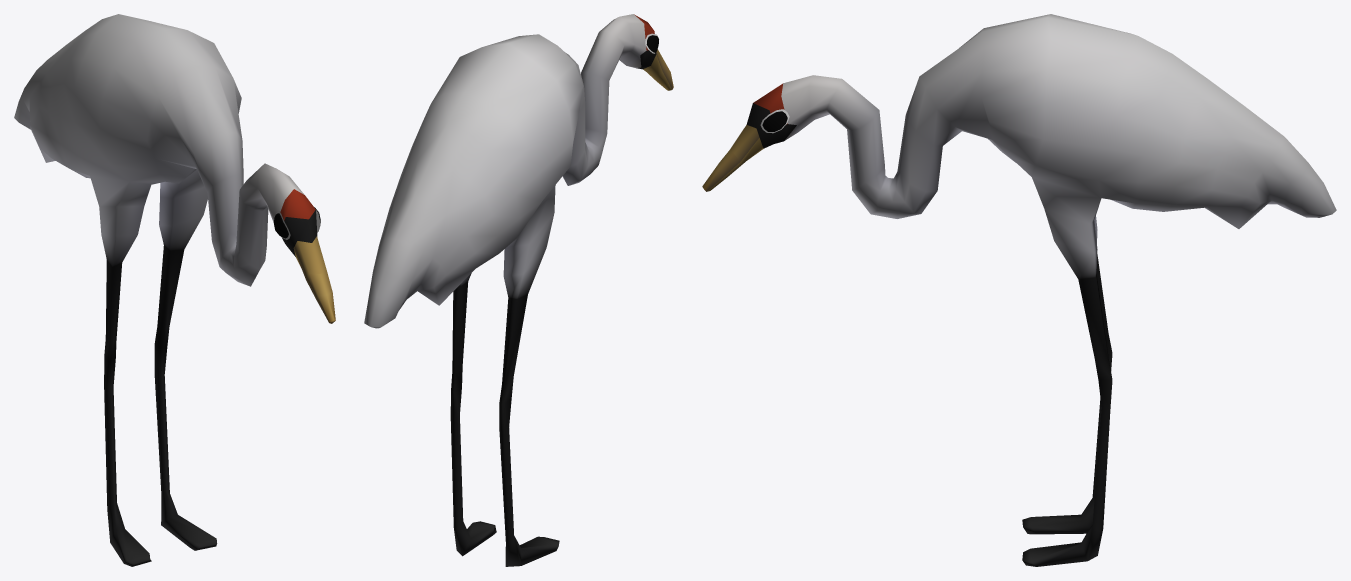
3 renders of one model, left to right at view 1: azimuth 30°, elevation 25°; view 2: azimuth 150°, elevation 25°; view 3: azimuth 270°, elevation 25°, orthographic. The views are drawn at different scales.
Visible parts, largest first — view 1: base.088; view 2: base.088; view 3: base.088.
Boxes of the visible parts, box(x1,y1,x2,y2) form: base.088: box(14, 14, 335, 566); base.088: box(364, 14, 673, 566); base.088: box(702, 14, 1336, 566).
Size of the model in its own units: 0.1212 by 0.4583 by 0.5.
